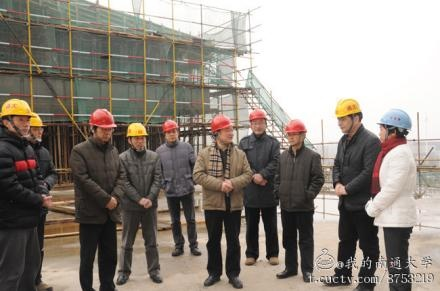blue: (377, 109, 410, 143)
red: (88, 107, 117, 141), (210, 115, 237, 146), (285, 118, 306, 147), (249, 108, 267, 135), (161, 118, 178, 141)
yellow: (2, 96, 34, 135), (335, 97, 363, 135), (123, 121, 150, 152), (25, 112, 45, 140)
